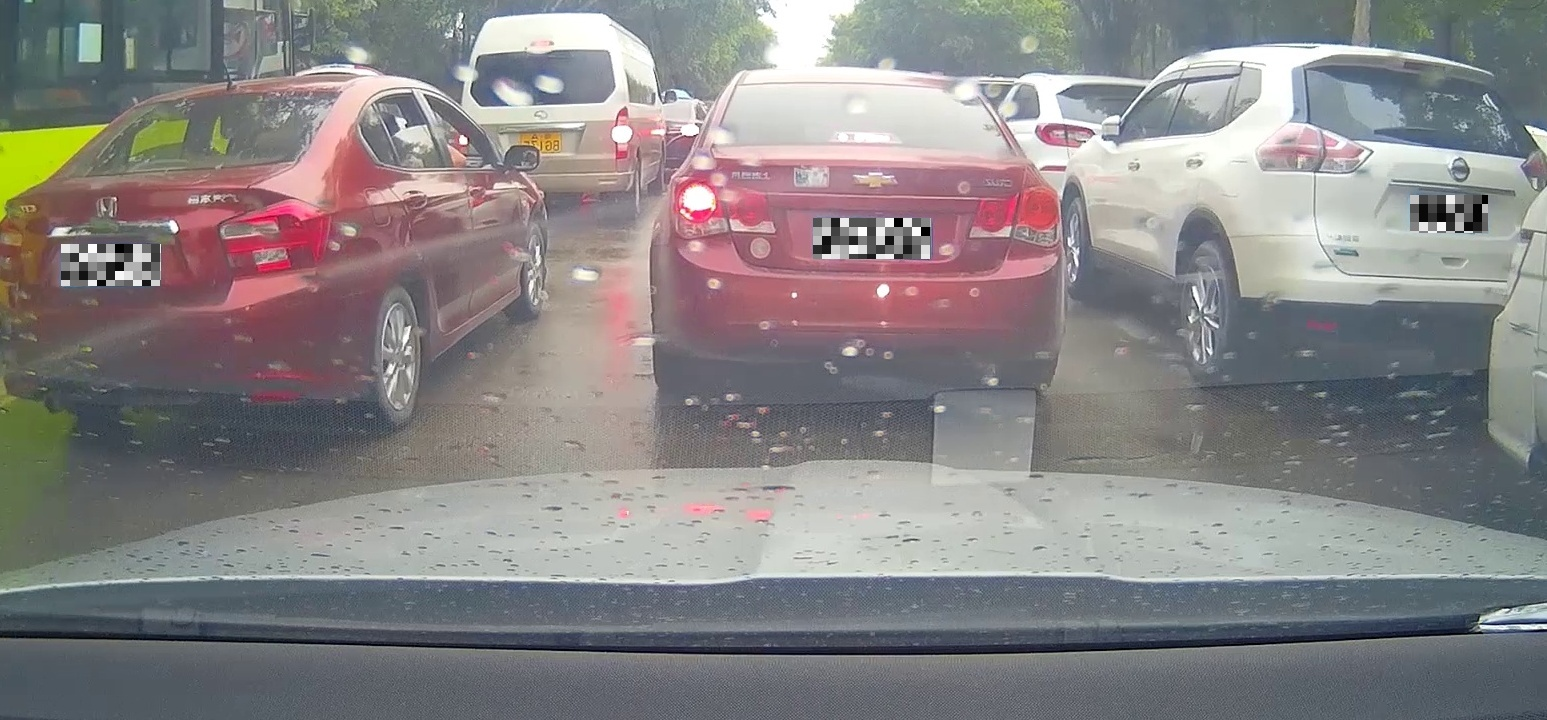L_light: (668, 175, 776, 239), (1254, 120, 1374, 174), (0, 215, 26, 286)
R_light: (216, 198, 331, 278), (968, 186, 1062, 246), (1521, 148, 1547, 193)
T_light: (828, 131, 902, 145), (133, 158, 189, 172), (1402, 60, 1447, 73)
day-left: (647, 67, 1064, 402)
day-no: (0, 74, 349, 433), (1245, 42, 1547, 383)
plate_1: (61, 244, 161, 286)
plate_2: (813, 218, 931, 259)
plate_3: (1410, 195, 1488, 233)
